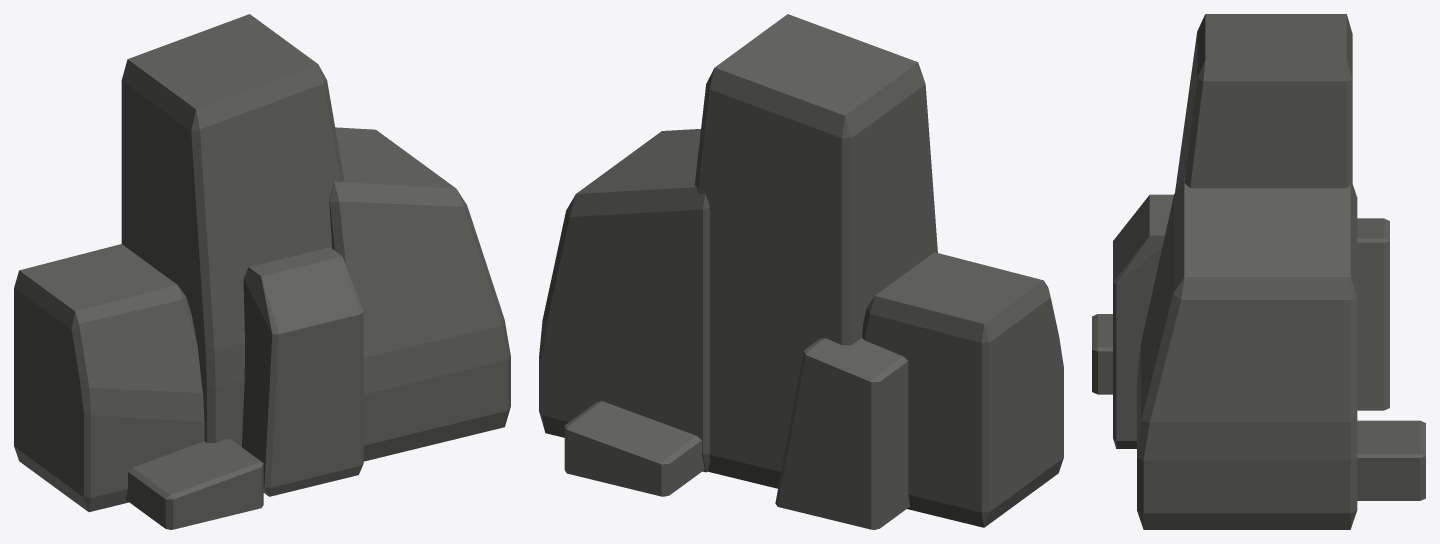
The model's file is SM_Envr_Nature_Rock_Group_09.fbx.
The picture shows the model from 3 angles, left to right: view 1: azimuth 30°, elevation 25°; view 2: azimuth 150°, elevation 25°; view 3: azimuth 270°, elevation 25°; orthographic projection. The views are drawn at different scales.
Parts seen in each view (by area): view 1: SM_Envr_Nature_Rock_Group_09; view 2: SM_Envr_Nature_Rock_Group_09; view 3: SM_Envr_Nature_Rock_Group_09.
Boxes of the visible parts, left/top/right/bottom form: SM_Envr_Nature_Rock_Group_09: left=14, top=14, right=510, bottom=529; SM_Envr_Nature_Rock_Group_09: left=539, top=14, right=1063, bottom=529; SM_Envr_Nature_Rock_Group_09: left=1092, top=14, right=1425, bottom=529.
Size of the model in its own units: 445 by 395 by 305.
